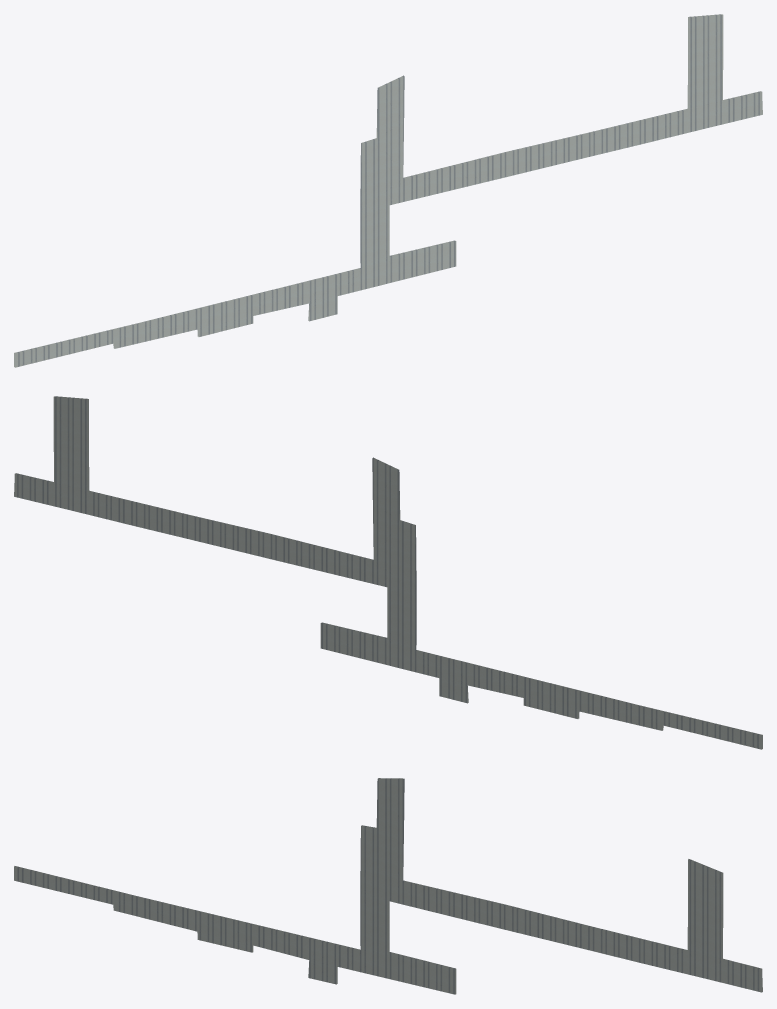
Rendered from floor_71.obj.
3 renders of one model, top to bottom at view 1: azimuth 30°, elevation 25°; view 2: azimuth 150°, elevation 25°; view 3: azimuth 330°, elevation 25°, orthographic.
Parts seen in each view (by area): view 1: floor_71; view 2: floor_71; view 3: floor_71.
Boxes of the visible parts, left/top/right/bottom form: floor_71: left=14, top=14, right=762, bottom=367; floor_71: left=14, top=396, right=762, bottom=749; floor_71: left=14, top=778, right=762, bottom=994.
Size of the model in its own units: 59 by 16.75 by 0.1.
Materials: 1 (1 with a texture image).
